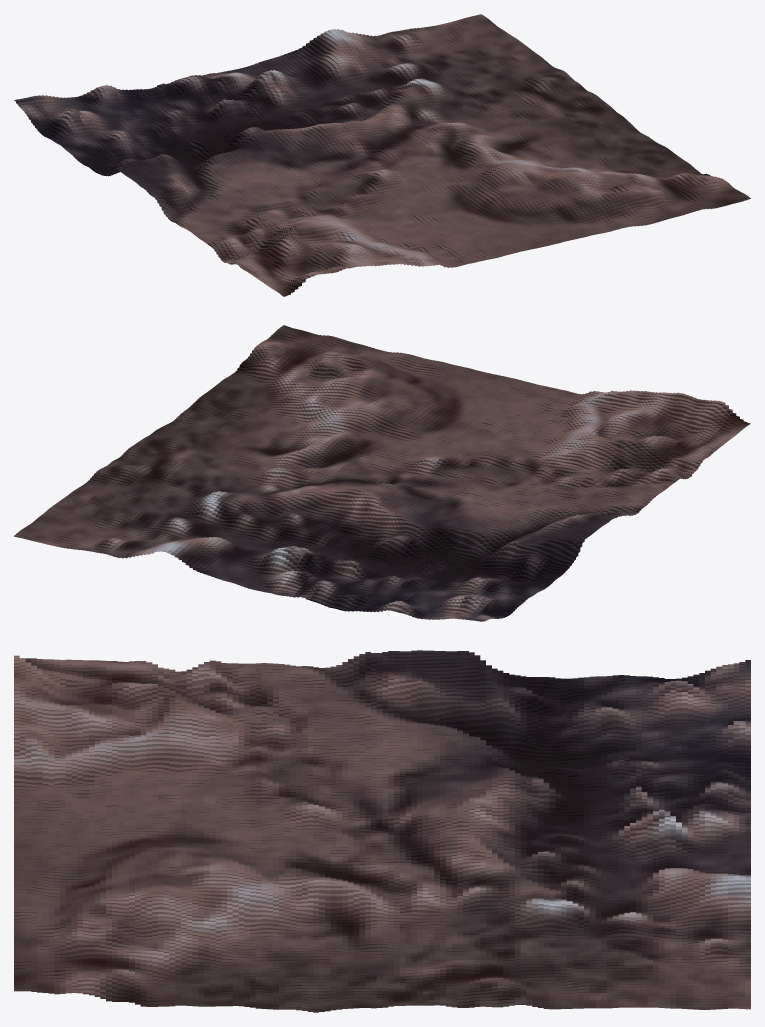
File: chunk-34.glb
3 views of the same model, one above another, from view 1: azimuth 30°, elevation 25°; view 2: azimuth 150°, elevation 25°; view 3: azimuth 270°, elevation 25° (orthographic). The views are drawn at different scales.
Visible parts, largest first — view 1: Mesh_0.050; view 2: Mesh_0.050; view 3: Mesh_0.050.
Boxes of the visible parts, box(x1,y1,x2,y2) form: Mesh_0.050: box(14, 14, 750, 296); Mesh_0.050: box(14, 325, 750, 621); Mesh_0.050: box(14, 650, 750, 1012).
Size of the model in its own units: 32000 by 3006 by 32000.
